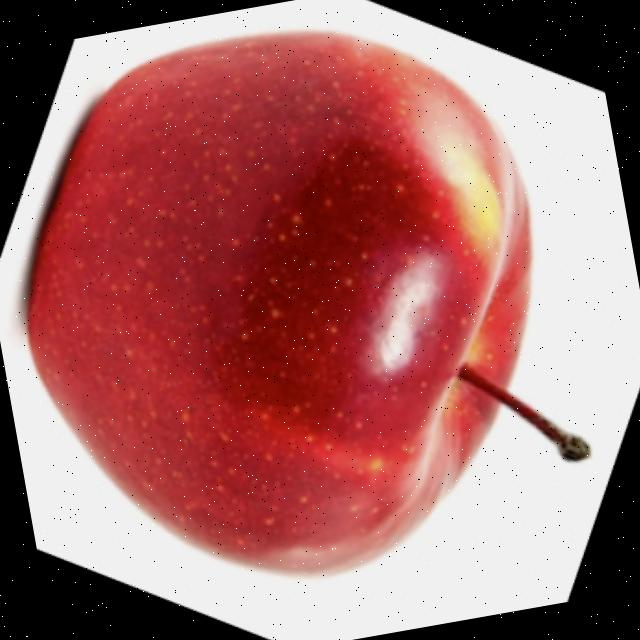Ripe: (0, 0, 599, 625)
